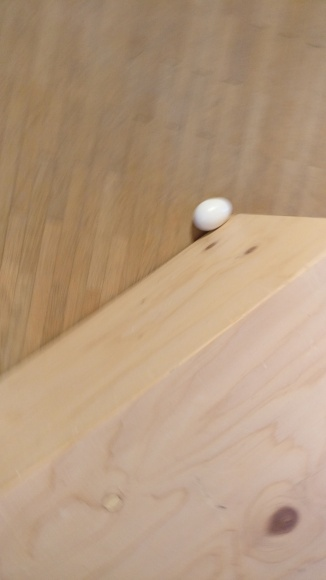egg: (192, 195, 231, 229)
